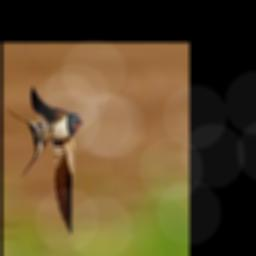Swallow: (7, 86, 83, 234)
